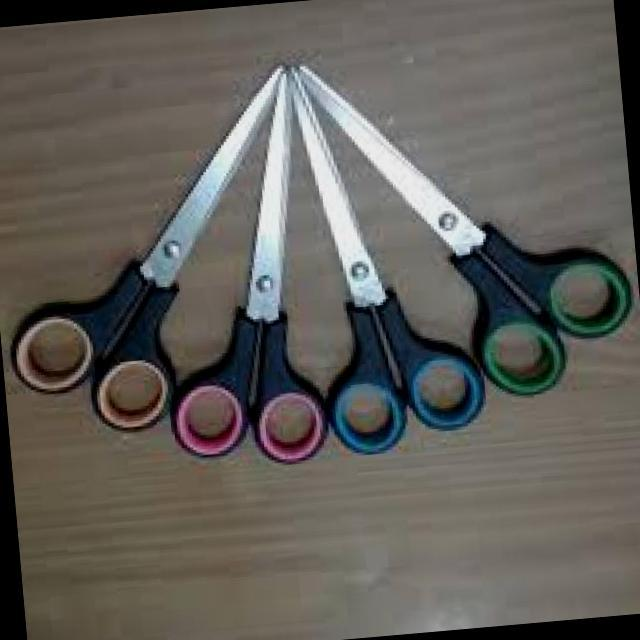Scissors: (295, 25, 640, 426), (0, 50, 335, 458), (285, 67, 504, 467), (138, 84, 332, 492)
